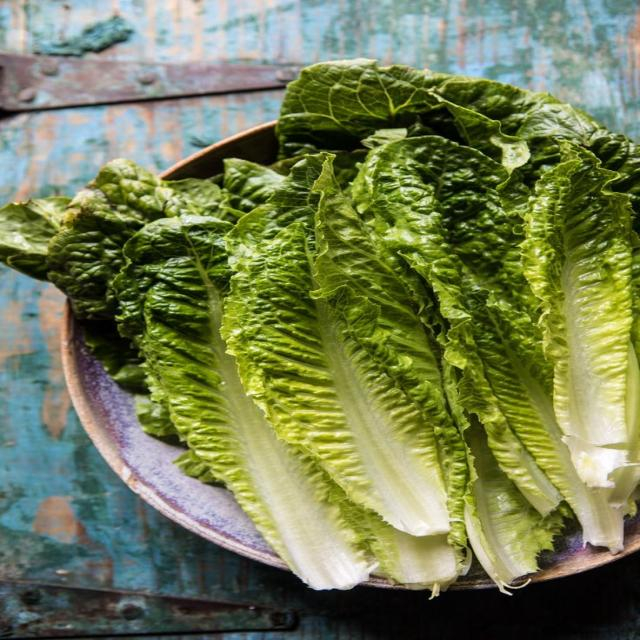lettuce: (0, 60, 639, 593)
